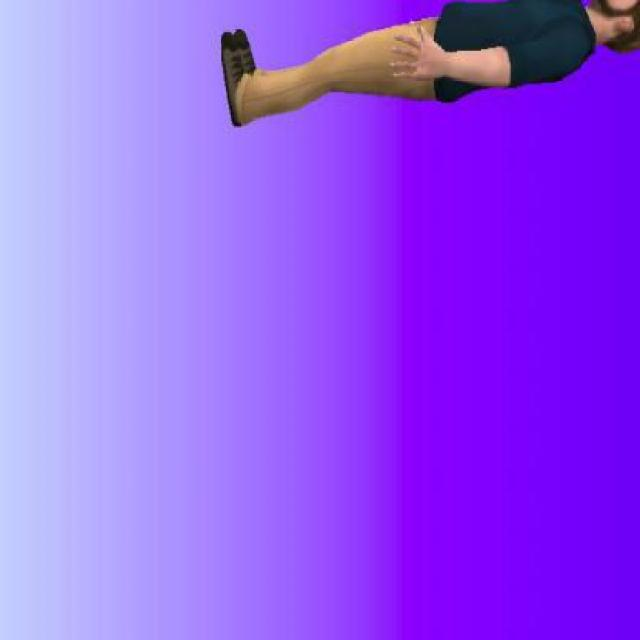Person: (216, 0, 639, 134)
